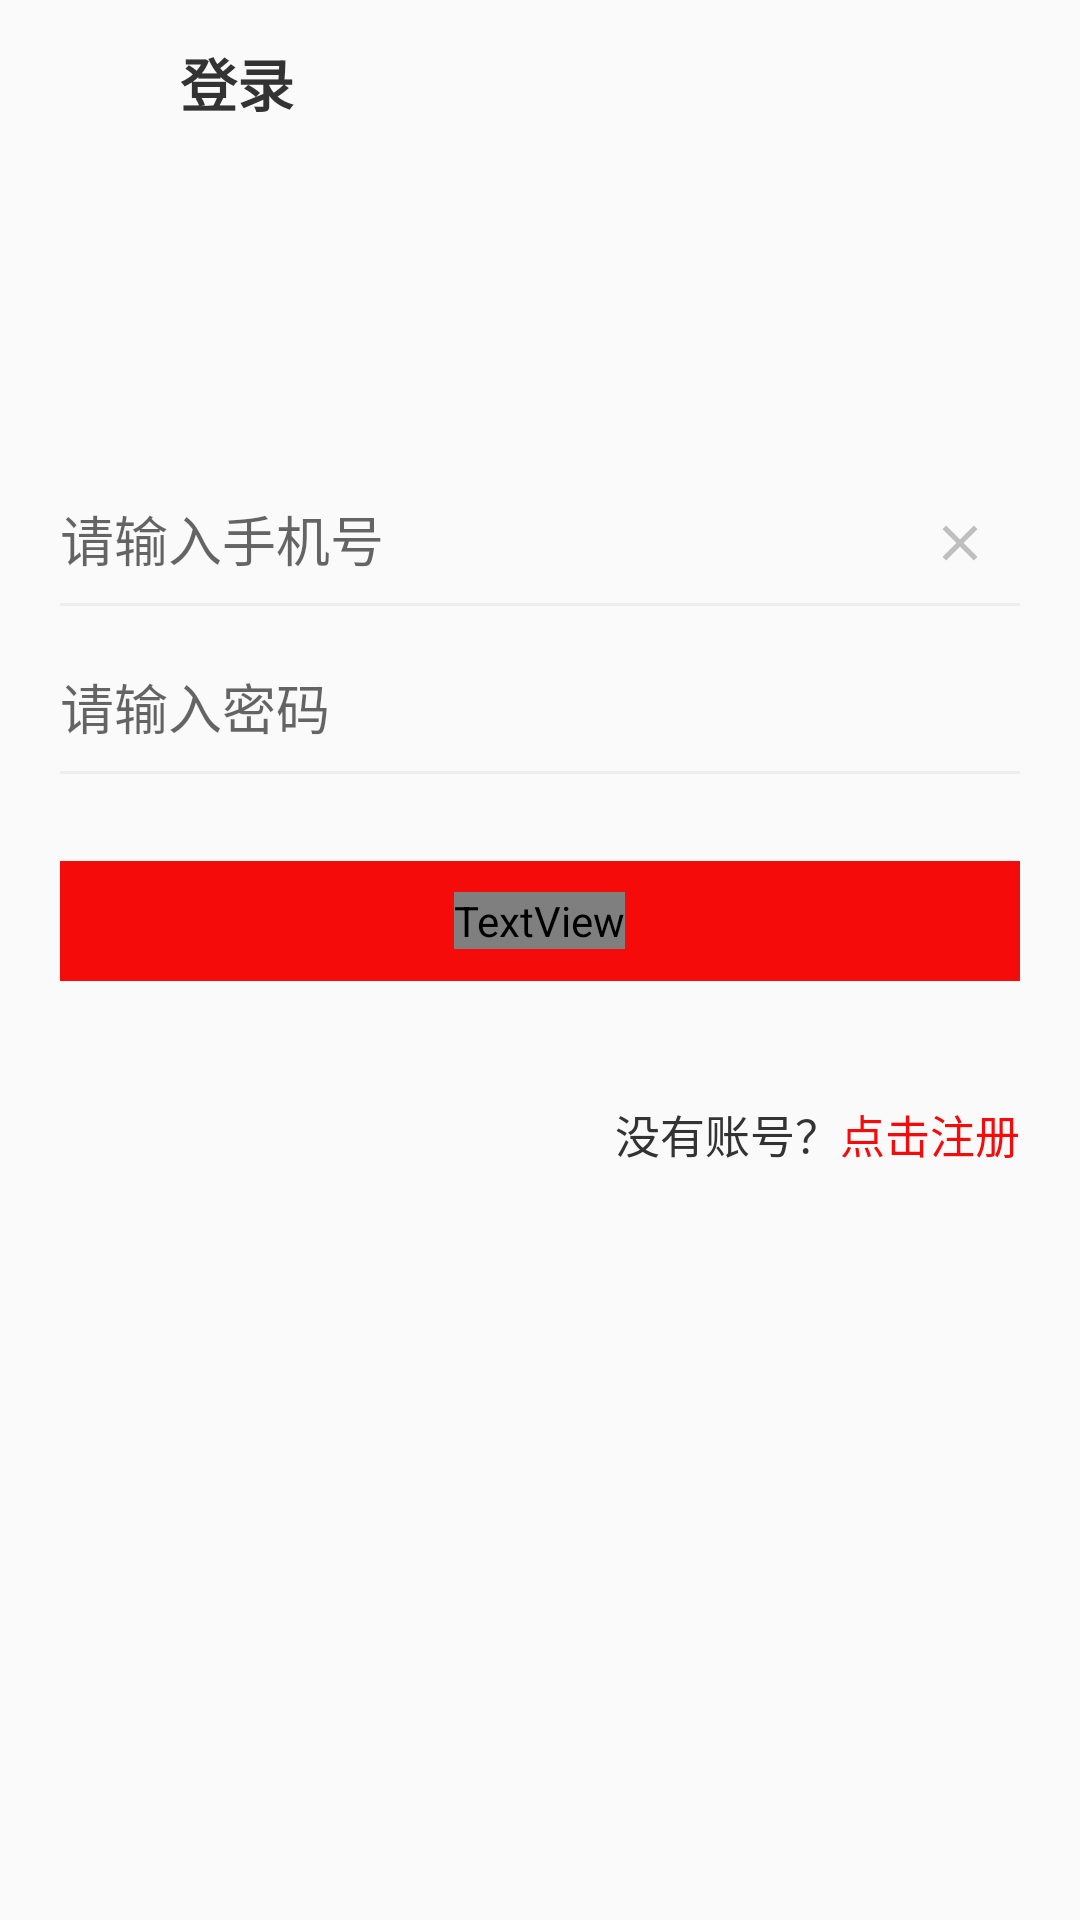

Where icons sit on this 1080*1920 app screen, as {"x1": x1, "y1": y1, "x2": x2, "y2": y2}:
close: {"x1": 943, "y1": 526, "x2": 977, "y2": 560}
